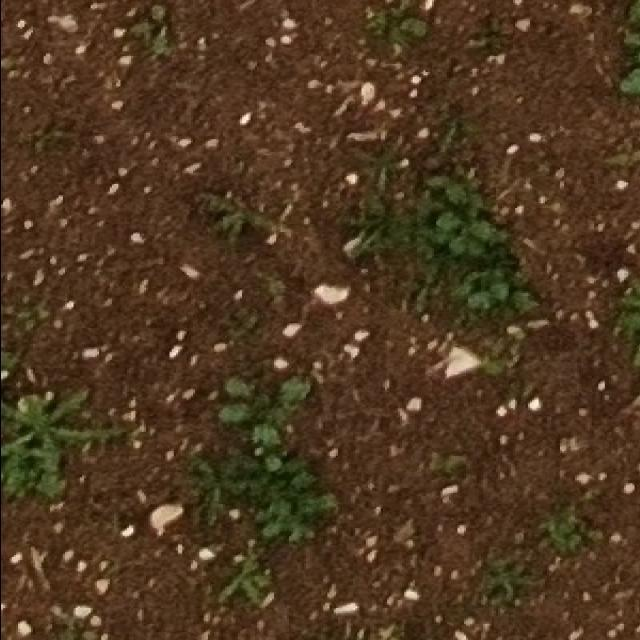cirse: (0, 364, 119, 458), (2, 378, 115, 471), (1, 381, 115, 473), (198, 185, 292, 248), (176, 464, 259, 535), (183, 178, 272, 242), (189, 185, 280, 246), (162, 443, 241, 513), (161, 440, 240, 509), (355, 129, 429, 192), (331, 129, 406, 190), (323, 130, 396, 189), (197, 560, 271, 617), (193, 575, 266, 629), (199, 578, 269, 632), (487, 567, 551, 609), (453, 565, 515, 606), (497, 565, 557, 606), (534, 532, 586, 572), (517, 515, 569, 555), (510, 490, 559, 530)
